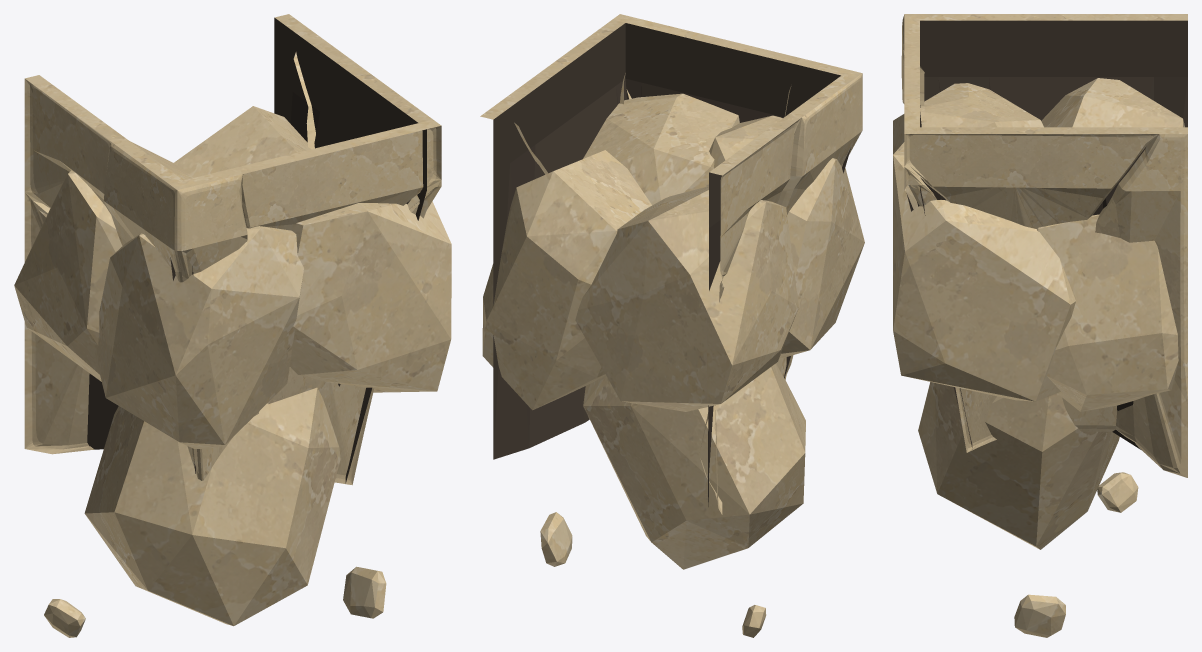
File: ground_bottom_square_end_08.glb
The picture shows the model from 3 angles, left to right: view 1: azimuth 30°, elevation 25°; view 2: azimuth 150°, elevation 25°; view 3: azimuth 270°, elevation 25°; orthographic projection. The views are drawn at different scales.
Parts seen in each view (by area): view 1: GroundBottomSquareEnd08_Body; view 2: GroundBottomSquareEnd08_Body; view 3: GroundBottomSquareEnd08_Body.
Boxes of the visible parts, box(x1,y1,x2,y2) form: GroundBottomSquareEnd08_Body: box(14, 14, 451, 637); GroundBottomSquareEnd08_Body: box(480, 14, 864, 637); GroundBottomSquareEnd08_Body: box(893, 14, 1187, 637).
Bounding box in the file's own units: 1.08 × 1.97 × 1.04.
12 materials, 11 textured.
